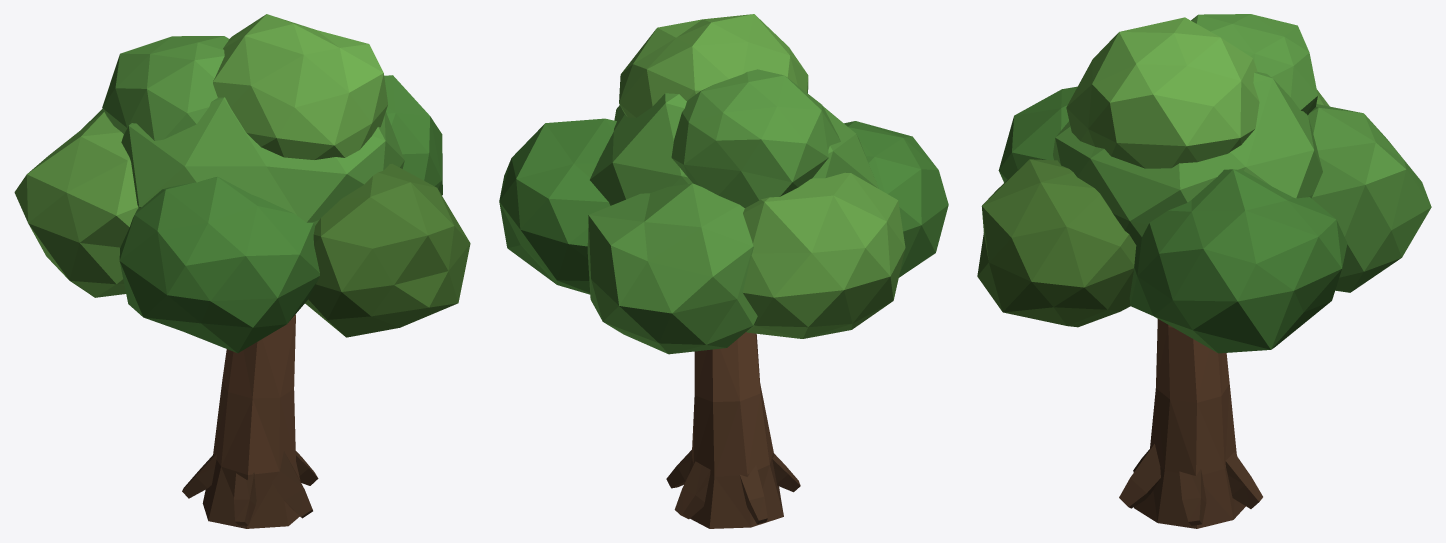
Rendered from tree_oak.glb.
3 views of the same model, side by side, from view 1: azimuth 30°, elevation 25°; view 2: azimuth 150°, elevation 25°; view 3: azimuth 270°, elevation 25° (orthographic). The views are drawn at different scales.
Visible parts, largest first — view 1: tree_oak; view 2: tree_oak; view 3: tree_oak.
Boxes of the visible parts, box(x1,y1,x2,y2) form: tree_oak: box(14, 14, 470, 528); tree_oak: box(499, 14, 948, 528); tree_oak: box(977, 14, 1431, 528).
Size of the model in its own units: 4.74 by 5.4 by 4.56.
